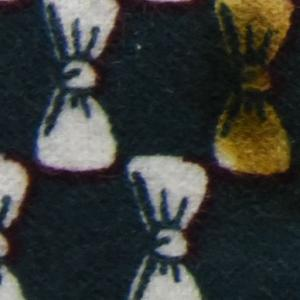Oil Stain: (192, 1, 300, 198)
